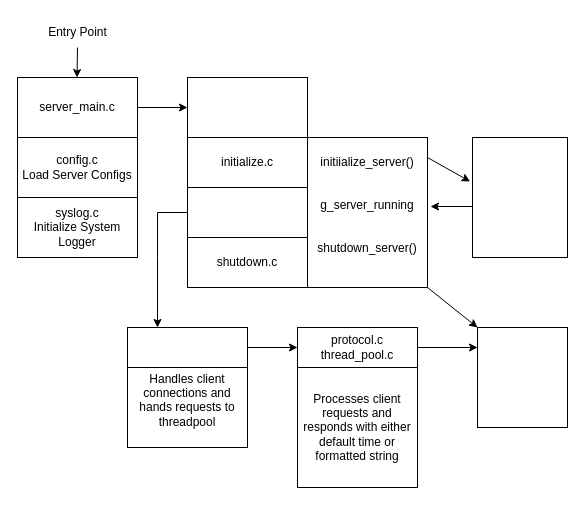
Some shapes in this 585 by 505 pixel diagram are drawn without their labels. The shapes that lost their labels are listed below. From the top down, each one's centre as x and y in pixels, then its label:
the point at 247,107: server.c
the point at 247,212: poll.c
the point at 520,197: signal_handler.c thread_pool.c poll.c
the point at 187,347: connection.c
the point at 522,377: Graceful Shutdown of Server via Signal or Timeout
